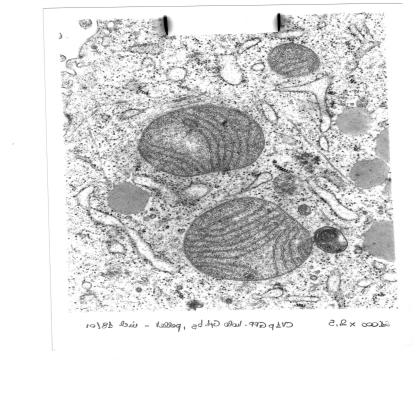mitochondria: (180, 194, 317, 284), (133, 102, 267, 180), (264, 40, 324, 79)
